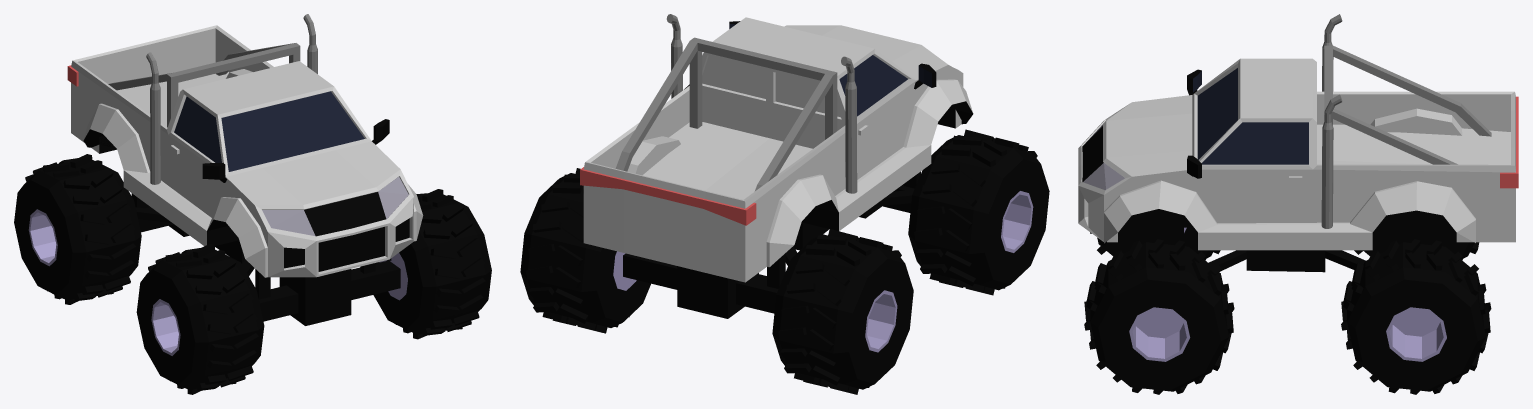
Rendered from car1.glb.
3 renders of one model, left to right at view 1: azimuth 30°, elevation 25°; view 2: azimuth 150°, elevation 25°; view 3: azimuth 270°, elevation 25°, orthographic. The views are drawn at different scales.
Visible parts, largest first — view 1: Monster_Truck, Monster_Truck_wheel_front_right, Monster_Truck_wheel_rear_right, Monster_Truck_wheel_front_left; view 2: Monster_Truck, Monster_Truck_wheel_rear_right, Monster_Truck_wheel_front_right, Monster_Truck_wheel_rear_left; view 3: Monster_Truck, Monster_Truck_wheel_rear_left, Monster_Truck_wheel_front_left, Monster_Truck_wheel_rear_right, Monster_Truck_wheel_front_right.
Boxes of the visible parts, x1,y1,x2,y2 form: Monster_Truck: (67, 14, 423, 325); Monster_Truck_wheel_front_right: (136, 244, 264, 394); Monster_Truck_wheel_rear_right: (14, 154, 141, 304); Monster_Truck_wheel_front_left: (373, 189, 491, 339); Monster_Truck: (580, 14, 973, 318); Monster_Truck_wheel_rear_right: (772, 229, 913, 394); Monster_Truck_wheel_front_right: (908, 129, 1049, 295); Monster_Truck_wheel_rear_left: (520, 168, 650, 333); Monster_Truck: (1078, 14, 1518, 272); Monster_Truck_wheel_rear_left: (1341, 239, 1491, 394); Monster_Truck_wheel_front_left: (1084, 239, 1234, 394); Monster_Truck_wheel_rear_right: (1354, 227, 1479, 260); Monster_Truck_wheel_front_right: (1090, 227, 1220, 260).
Bounding box in the file's own units: 447 × 373 × 549.
